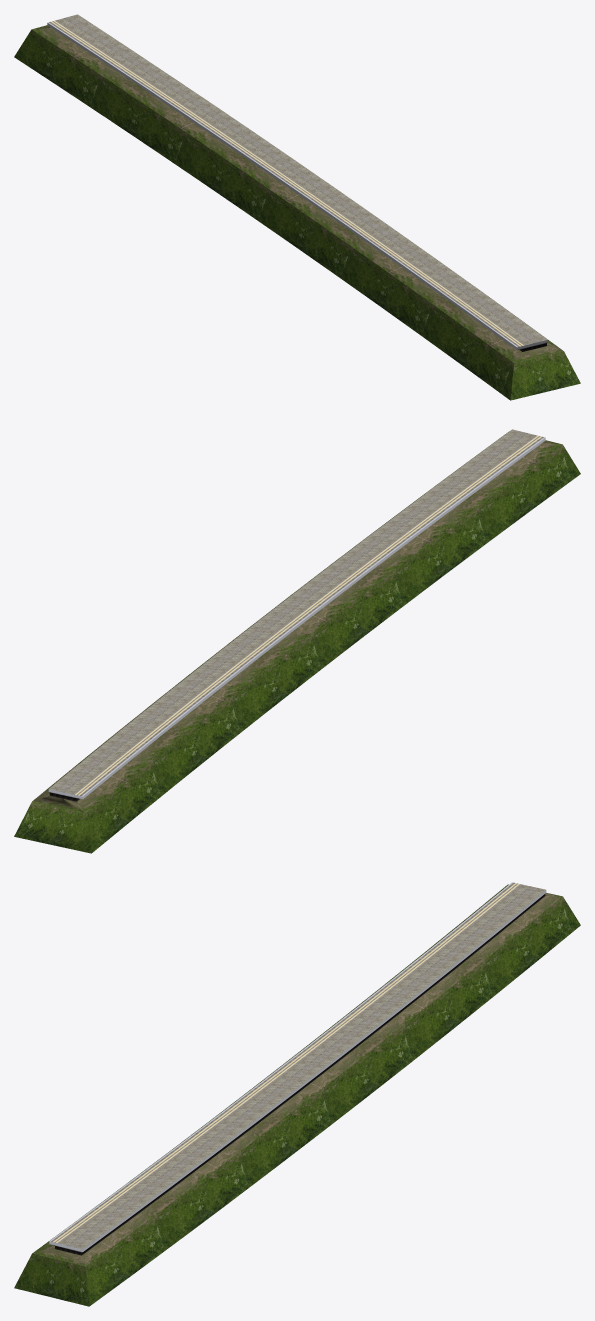
The model's file is platform_rus_2r.gltf.
The picture shows the model from 3 angles, top to bottom: view 1: azimuth 30°, elevation 25°; view 2: azimuth 150°, elevation 25°; view 3: azimuth 330°, elevation 25°; orthographic projection. The views are drawn at different scales.
Bounding box in the file's own units: 11.63 × 4.75 × 106.
1 material, 1 textured.
